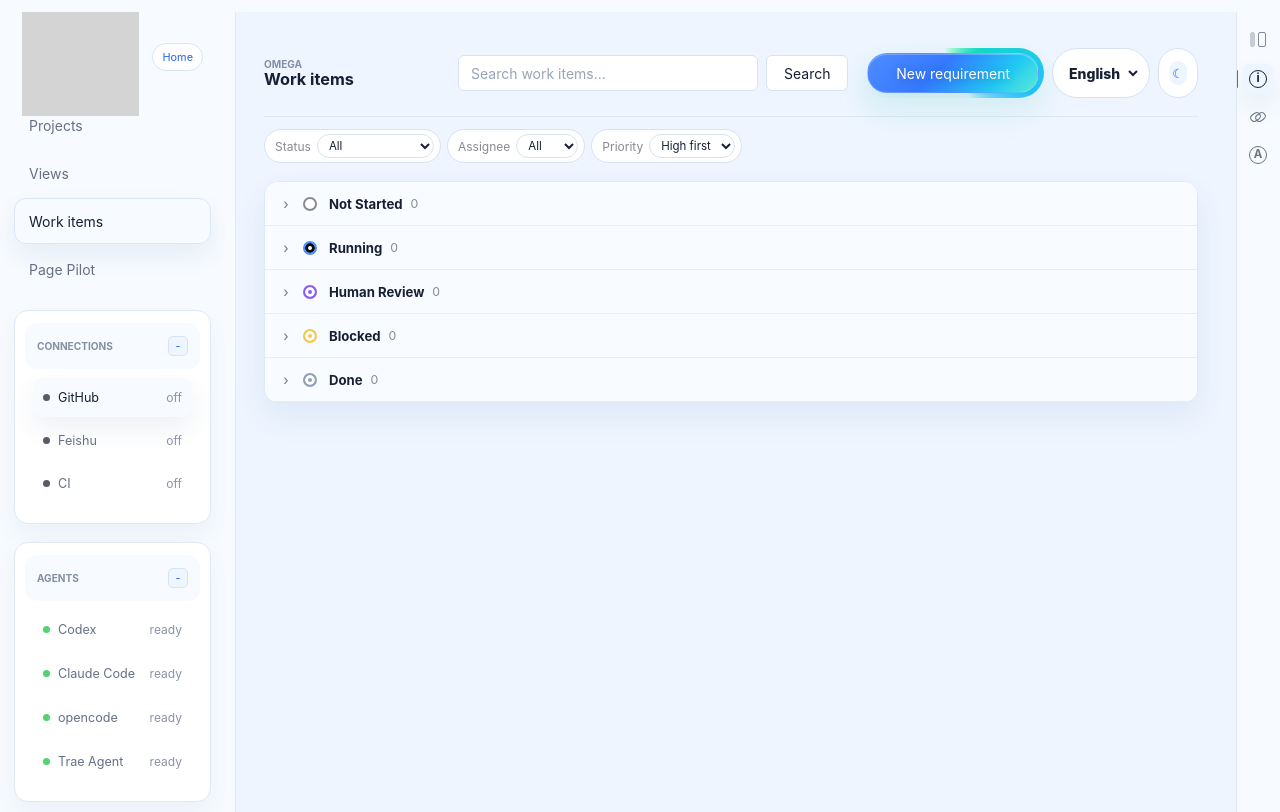
Test case: App operator view › does not overwrite the Go workspace snapshot on initial load
What coordinates should you click on to do the following:
click the button "Views"
I would click on:
 (112, 173)
Its box is [14,150,211,196].
(page scrolled)
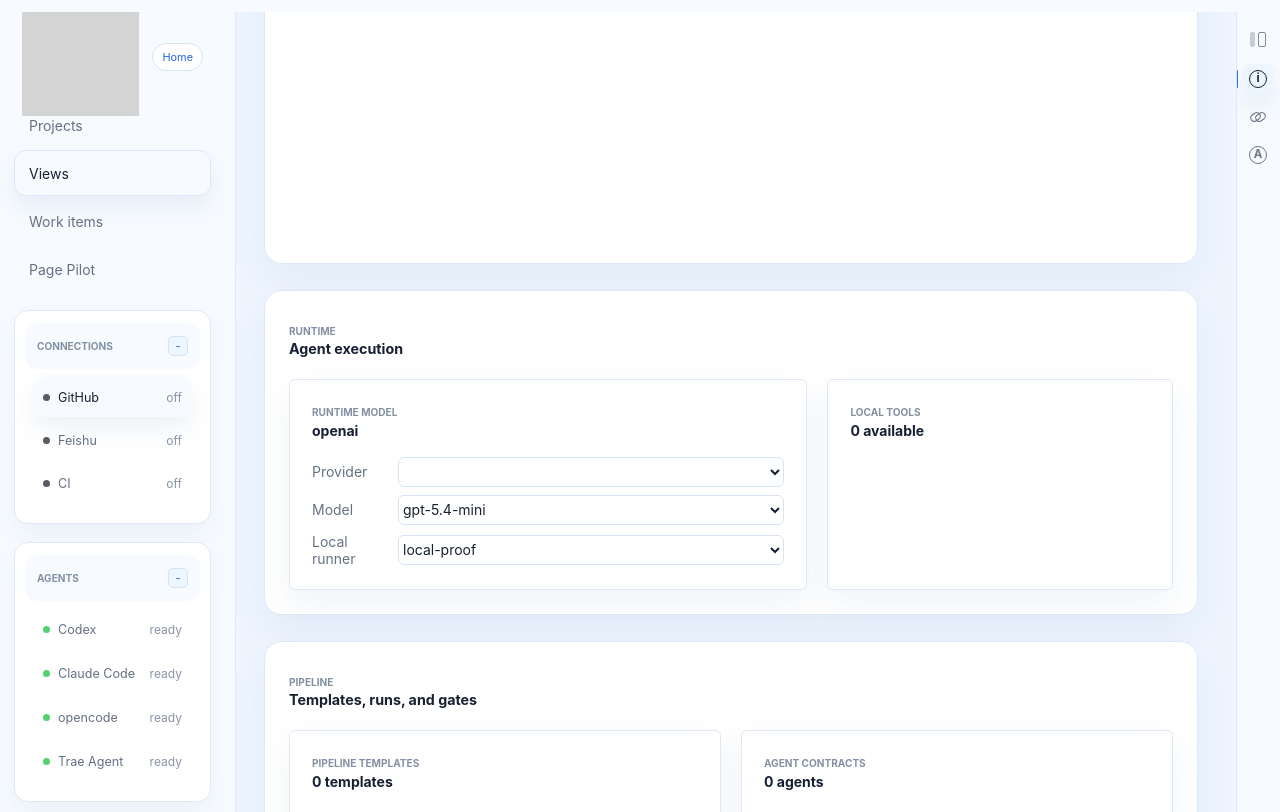
Expected: the text "Runtime model" is shown, [312,406,397,418]
